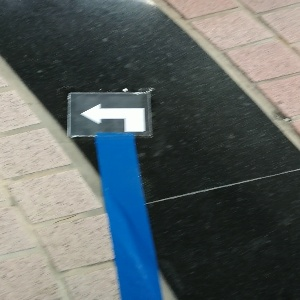left: (68, 94, 151, 135)
